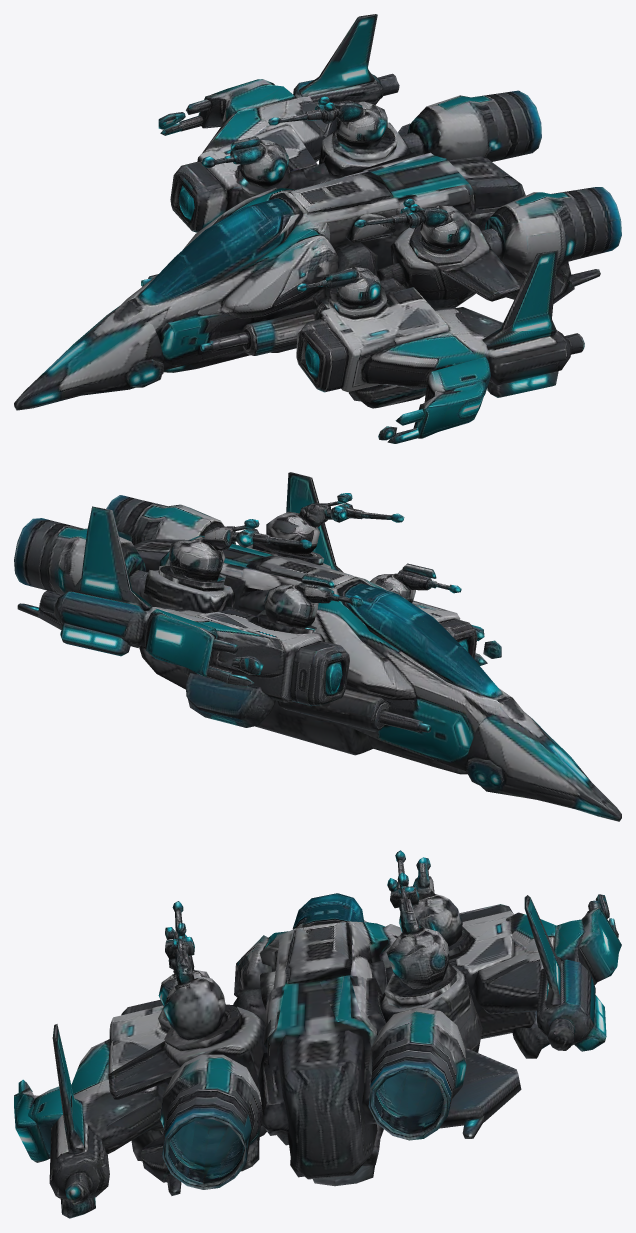
File: dart.glb
3 renders of one model, top to bottom at view 1: azimuth 30°, elevation 25°; view 2: azimuth 150°, elevation 25°; view 3: azimuth 270°, elevation 25°, orthographic. The views are drawn at different scales.
Parts seen in each view (by area): view 1: mesh_node; view 2: mesh_node; view 3: mesh_node.
Boxes of the visible parts, x1,y1,x2,y2 form: mesh_node: (14, 14, 621, 443); mesh_node: (14, 472, 621, 821); mesh_node: (14, 850, 621, 1218).
Size of the model in its own units: 1 by 0.4532 by 0.7676.
Materials: 1 (1 with a texture image).
